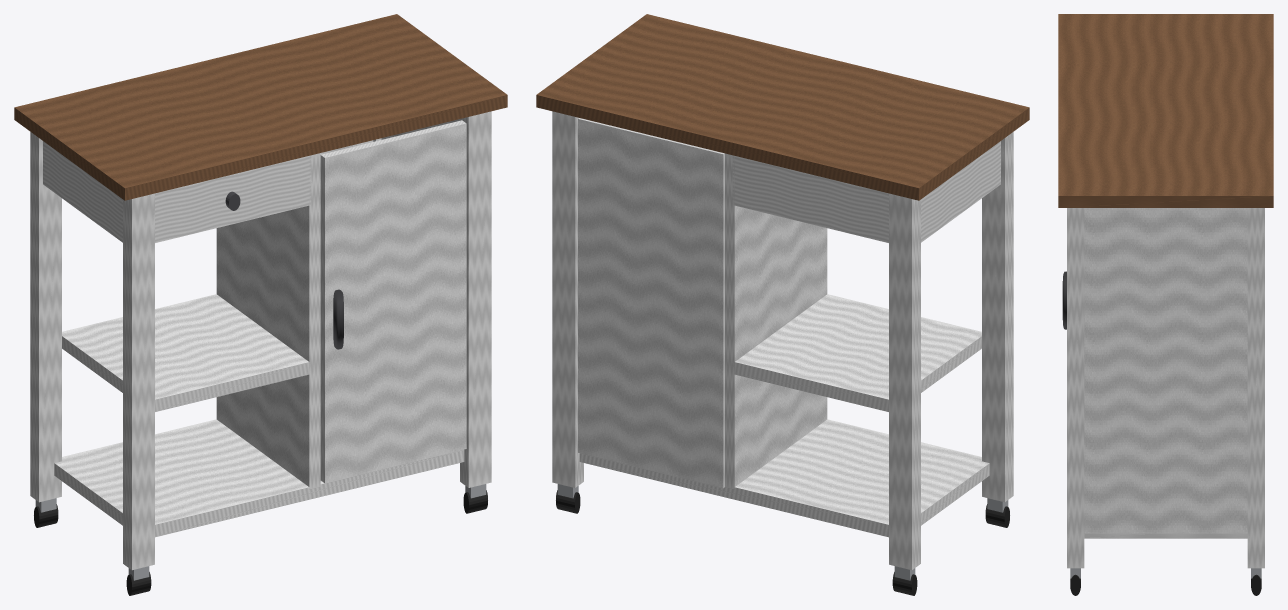
3 renders of one model, left to right at view 1: azimuth 30°, elevation 25°; view 2: azimuth 150°, elevation 25°; view 3: azimuth 270°, elevation 25°, orthographic. The views are drawn at different scales.
Parts seen in each view (by area): view 1: 15 barn_door, 1 countertop, 11 center_divider, 10 bottom_shelf, 9 wine_rack_shelf, 2 leg_front_left, 3 leg_back_left, 4 leg_front_right, 6 drawer_box, 8 left_side_apron; view 2: 13 cabinet_back_panel, 1 countertop, 11 center_divider, 10 bottom_shelf, 9 wine_rack_shelf, 3 leg_back_left, 2 leg_front_left, 5 leg_back_right, 6 drawer_box, 8 left_side_apron; view 3: 12 right_side_panel, 1 countertop, 4 leg_front_right, 5 leg_back_right, 10 bottom_shelf.
Boxes of the visible parts, x1,y1,x2,y2 form: 15 barn_door: (320,120,466,483); 1 countertop: (14,14,507,200); 11 center_divider: (216,153,320,489); 10 bottom_shelf: (54,419,464,537); 9 wine_rack_shelf: (62,294,310,411); 2 leg_front_left: (123,193,154,570); 3 leg_back_left: (30,132,61,502); 4 leg_front_right: (460,111,491,487); 6 drawer_box: (155,155,311,242); 8 left_side_apron: (43,141,122,242); 13 cabinet_back_panel: (578,118,724,487); 1 countertop: (536,14,1029,200); 11 center_divider: (725,153,827,489); 10 bottom_shelf: (579,419,989,537); 9 wine_rack_shelf: (732,294,981,411); 3 leg_back_left: (889,193,920,570); 2 leg_front_left: (982,132,1013,502); 5 leg_back_right: (552,111,583,487); 6 drawer_box: (732,155,888,242); 8 left_side_apron: (921,141,1000,242); 12 right_side_panel: (1084,208,1247,533); 1 countertop: (1058,14,1273,207); 4 leg_front_right: (1067,208,1084,568); 5 leg_back_right: (1247,208,1264,568); 10 bottom_shelf: (1084,533,1247,538).
Size of the model in its own units: 0.96 by 1 by 0.48.
6 materials, 2 textured.
